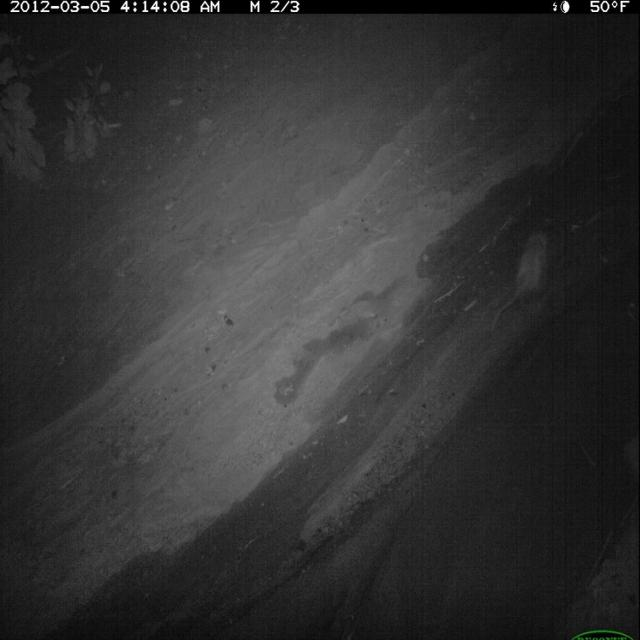opossum: (493, 224, 555, 333)
